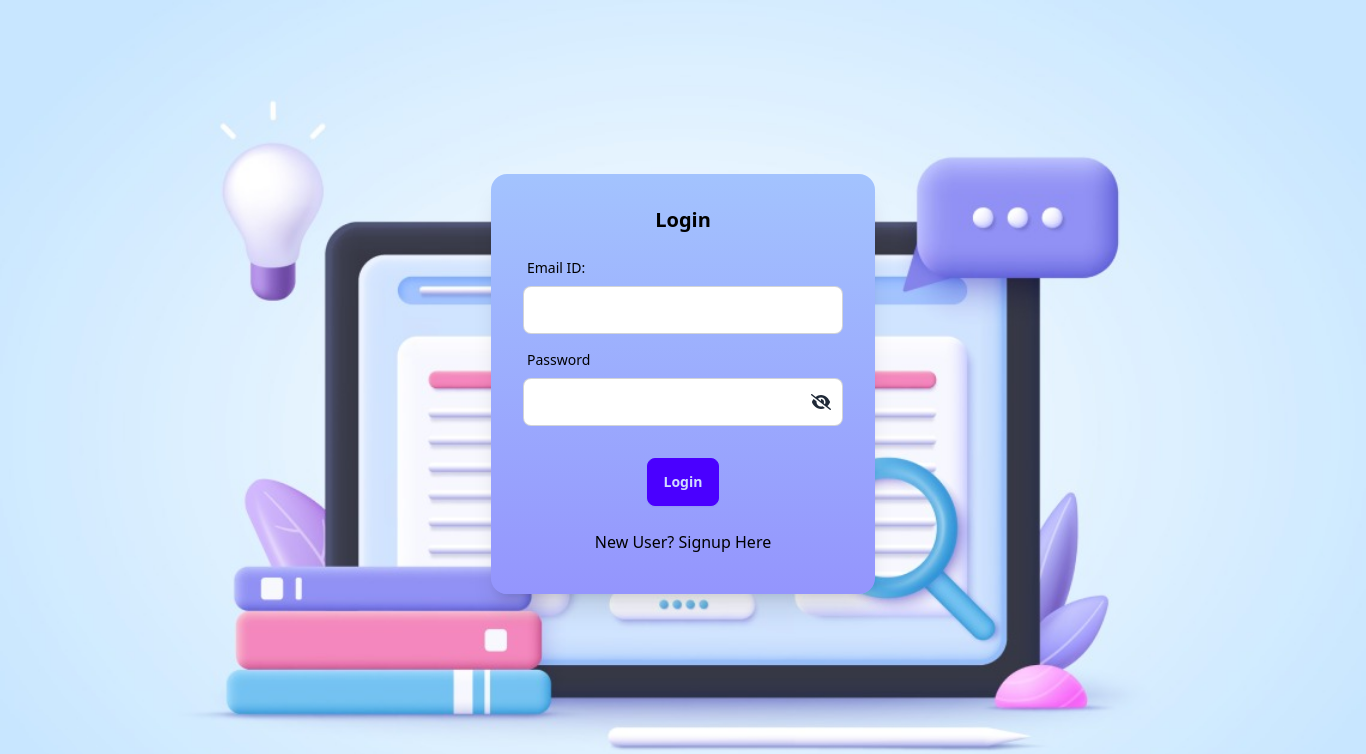
it: Login Component › shows signup validation errors
This screenshot has width=1366, height=754.
Click the text "New User? Signup Here" at (683, 542), box [595, 531, 771, 553]
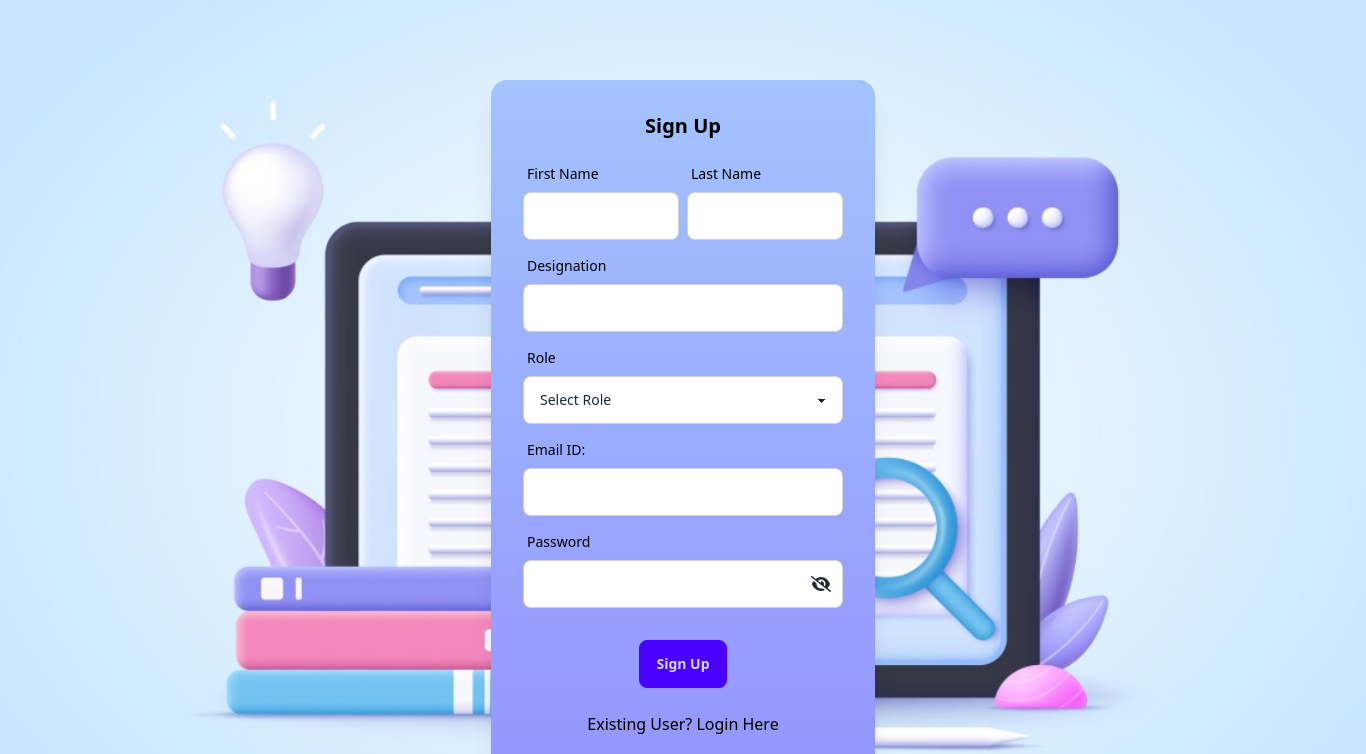
// Trigger Signup without entering required fields
Click the button "Sign Up" at (683, 664), box [639, 640, 726, 688]
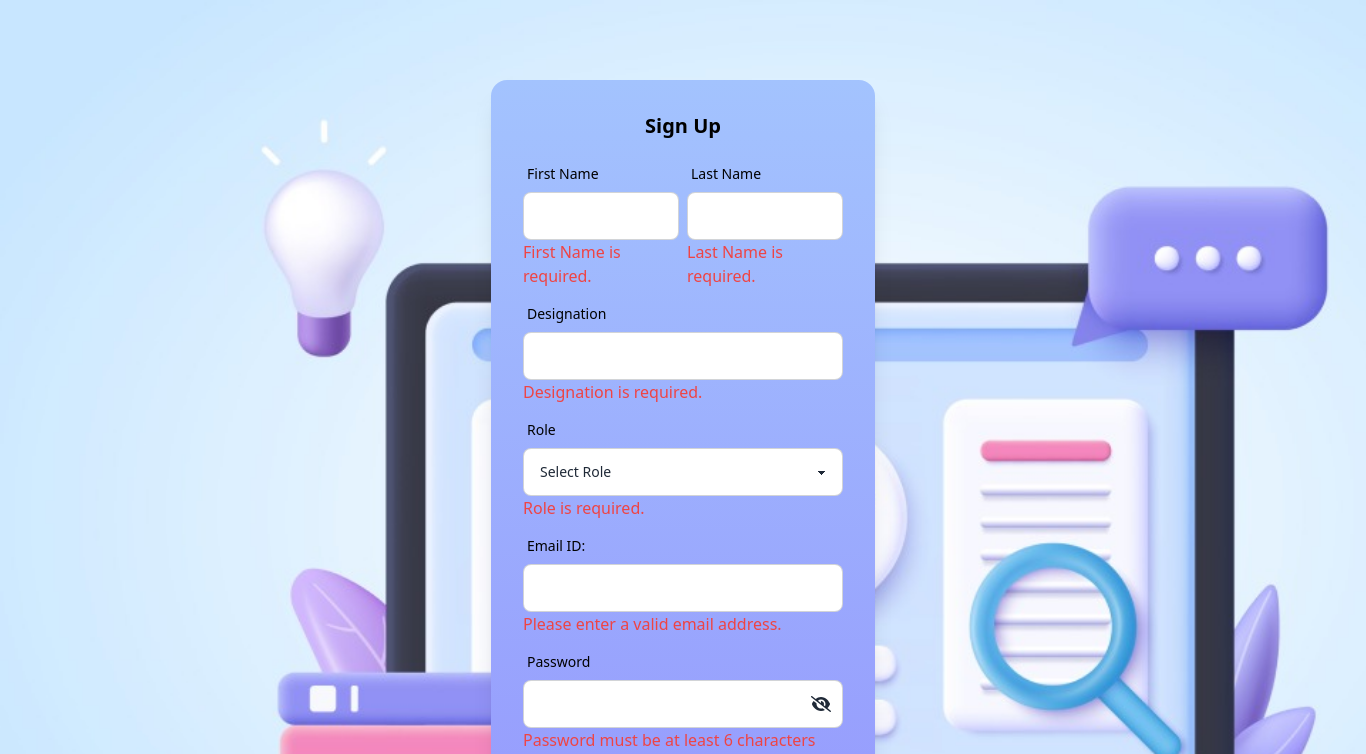
Result: the text "First Name is required." is shown at [523, 241, 621, 287]
Result: the text "Last Name is required." is shown at [687, 241, 783, 287]
Result: the text "Designation is required." is shown at [523, 381, 702, 403]
